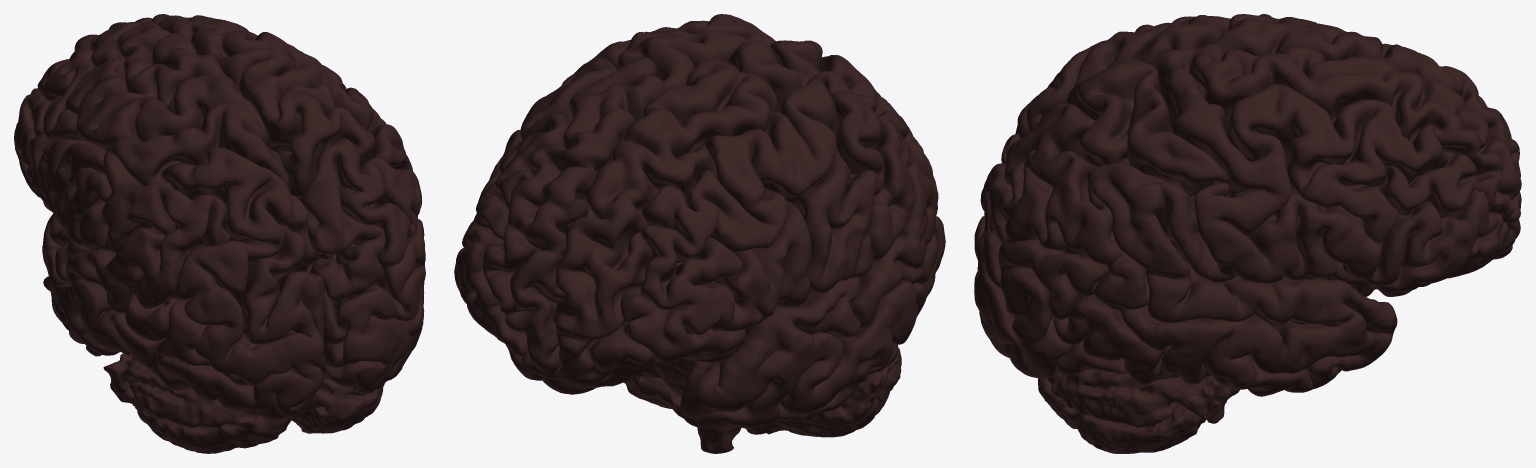
The model's file is brain.glb.
The picture shows the model from 3 angles, left to right: view 1: azimuth 30°, elevation 25°; view 2: azimuth 150°, elevation 25°; view 3: azimuth 270°, elevation 25°; orthographic projection. The views are drawn at different scales.
Visible parts, largest first — view 1: Object_4, Object_3, Object_2, Object_5; view 2: Object_4, Object_3, Object_2, Object_5; view 3: Object_3, Object_2, Object_5, Object_4.
Boxes of the visible parts, x1,y1,x2,y2 form: Object_4: [14, 21, 425, 419]; Object_3: [29, 14, 386, 402]; Object_2: [103, 19, 423, 453]; Object_5: [214, 32, 424, 378]; Object_4: [556, 41, 945, 428]; Object_3: [454, 35, 937, 394]; Object_2: [521, 14, 901, 453]; Object_5: [521, 14, 771, 129]; Object_3: [974, 14, 1521, 392]; Object_2: [974, 47, 1512, 453]; Object_5: [1020, 51, 1295, 396]; Object_4: [974, 16, 1520, 378].
Bounding box in the file's own units: 134 × 142 × 182.
